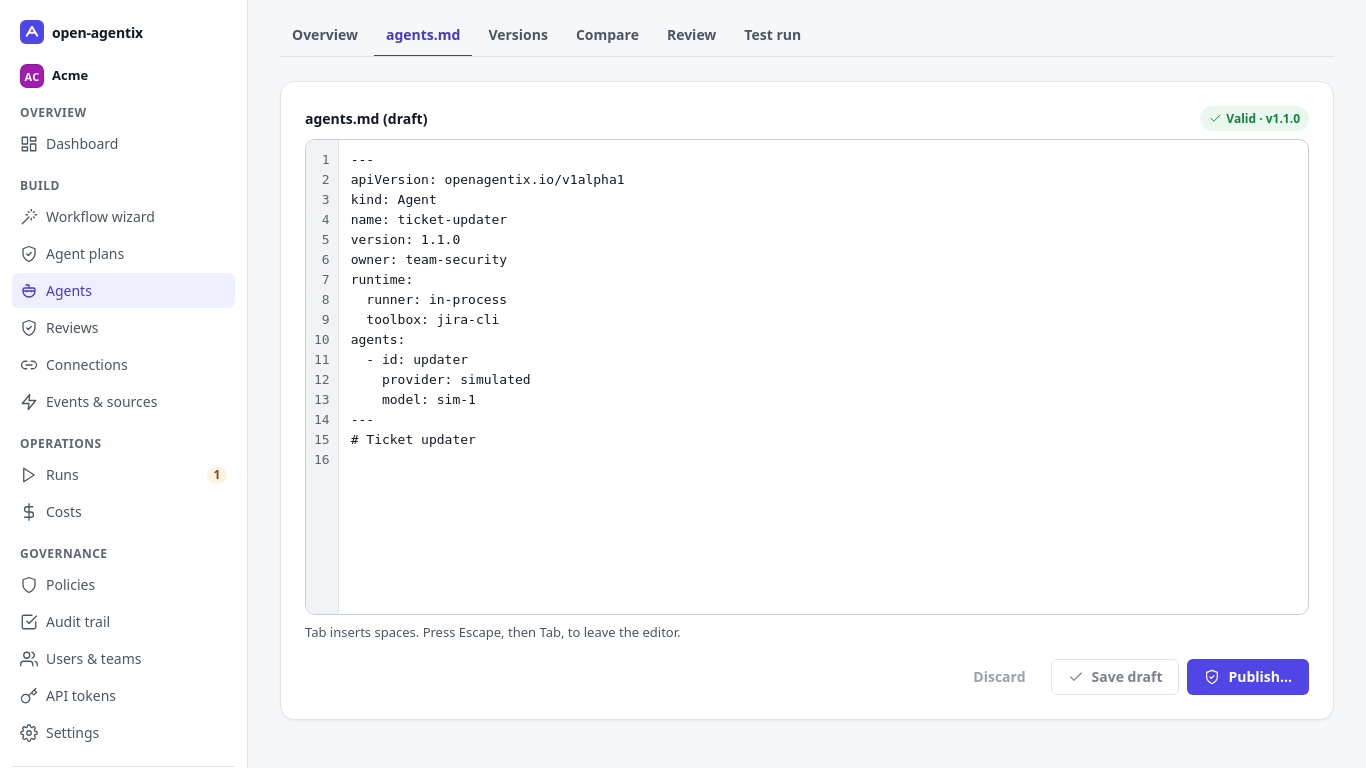
Test case: publish dialog › hints at the review tab when there is no review
(page scrolled)
Step 1. Click the button "Publish…" → (1248, 676), box [1188, 658, 1309, 694]
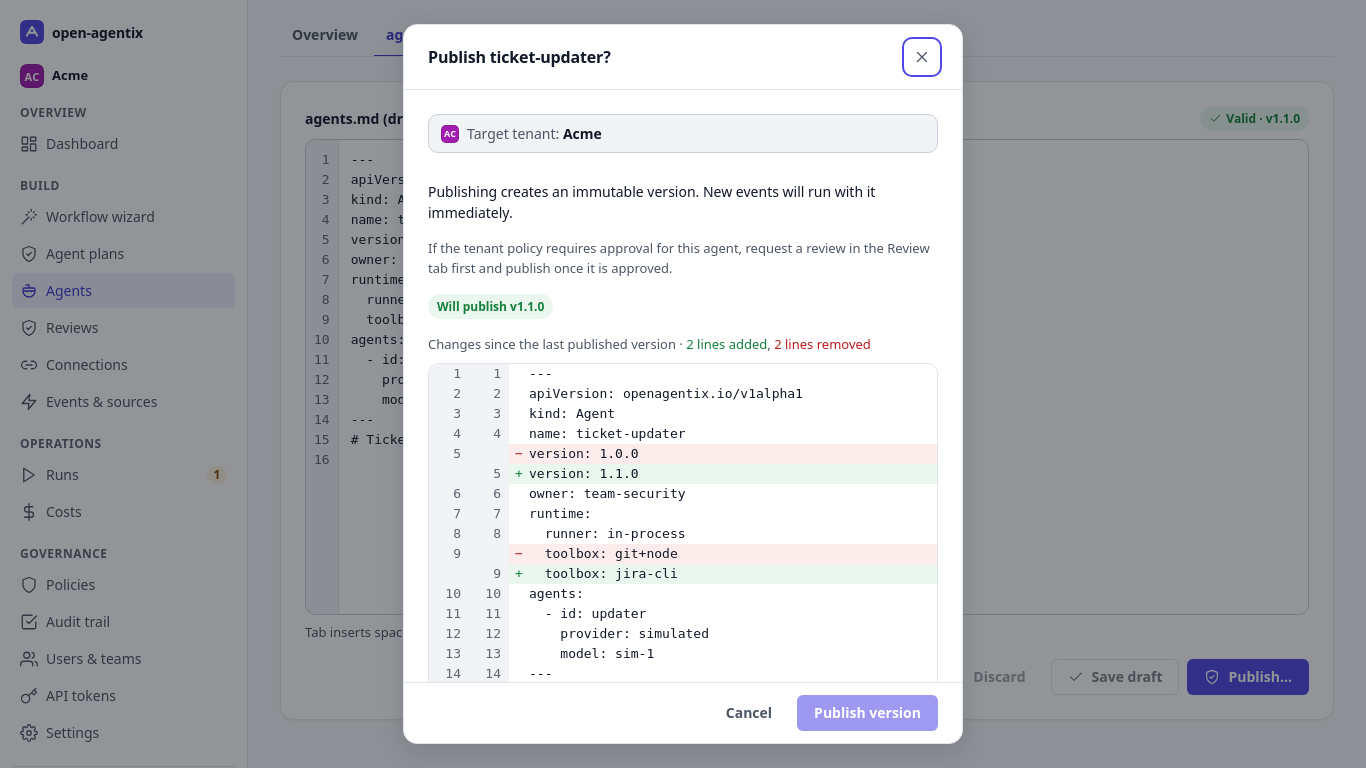
Now the text with test id "publish-approval" shows "request a review in the Review tab first", box [428, 239, 930, 276]
